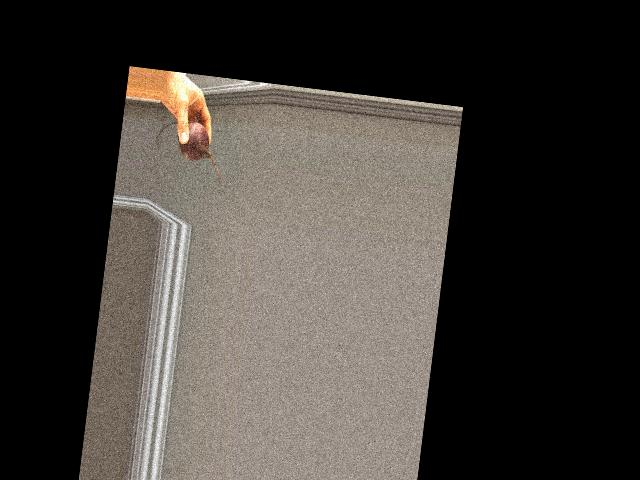beet: (151, 118, 226, 188)
